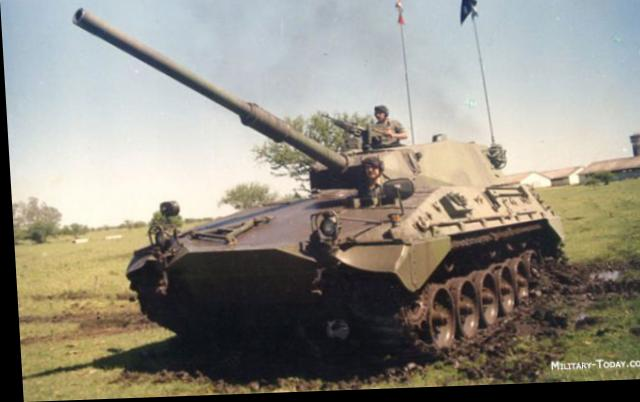other: (361, 160, 384, 203), (372, 107, 399, 142)
tank: (134, 134, 557, 338)
